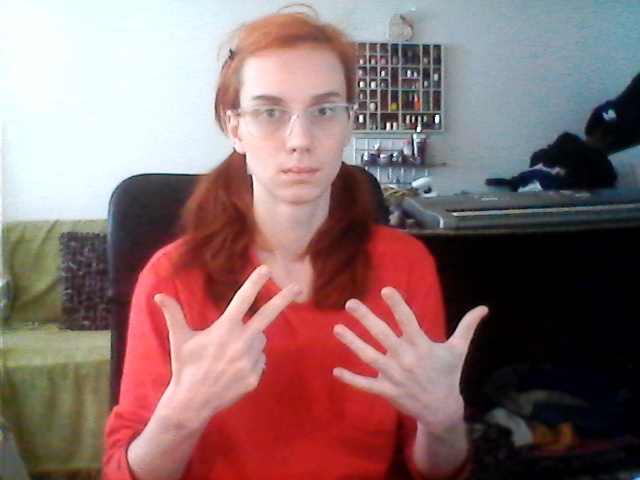osem: (151, 262, 497, 424)
